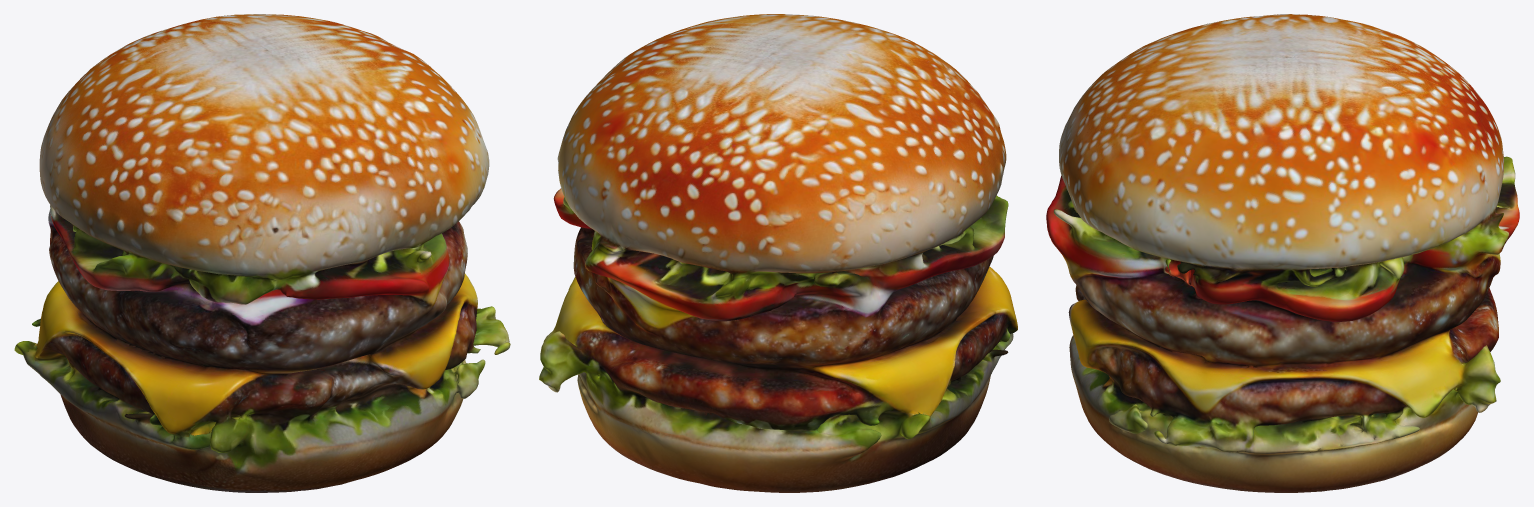
Rendered from burger.glb.
3 renders of one model, left to right at view 1: azimuth 30°, elevation 25°; view 2: azimuth 150°, elevation 25°; view 3: azimuth 270°, elevation 25°, orthographic.
Parts seen in each view (by area): view 1: tripo_node_1ddf9045-4af9-4005-8e32-a5c93e033ae9_tripo_mat_1d; view 2: tripo_node_1ddf9045-4af9-4005-8e32-a5c93e033ae9_tripo_mat_1d; view 3: tripo_node_1ddf9045-4af9-4005-8e32-a5c93e033ae9_tripo_mat_1d.
Boxes of the visible parts, x1,y1,x2,y2 form: tripo_node_1ddf9045-4af9-4005-8e32-a5c93e033ae9_tripo_mat_1d: (14, 14, 510, 492); tripo_node_1ddf9045-4af9-4005-8e32-a5c93e033ae9_tripo_mat_1d: (539, 14, 1017, 492); tripo_node_1ddf9045-4af9-4005-8e32-a5c93e033ae9_tripo_mat_1d: (1046, 14, 1519, 492).
Bounding box in the file's own units: 0.644 × 0.5764 × 0.6609.
Materials: 1 (1 with a texture image).
